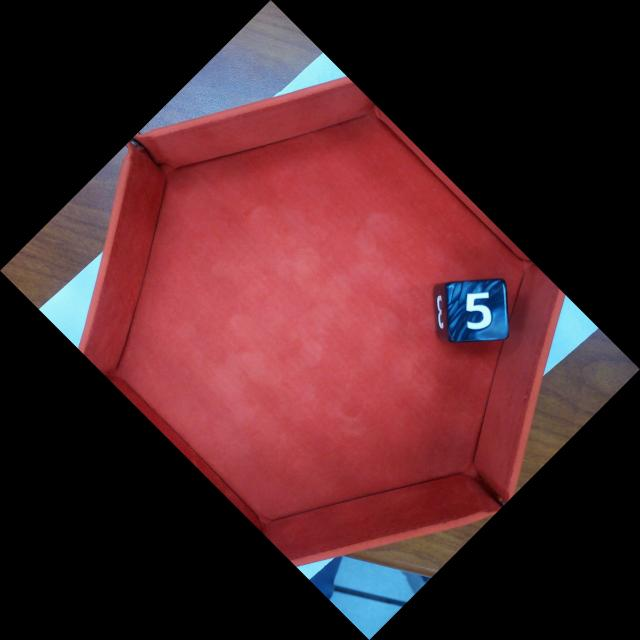dice: (452, 279, 511, 343)
